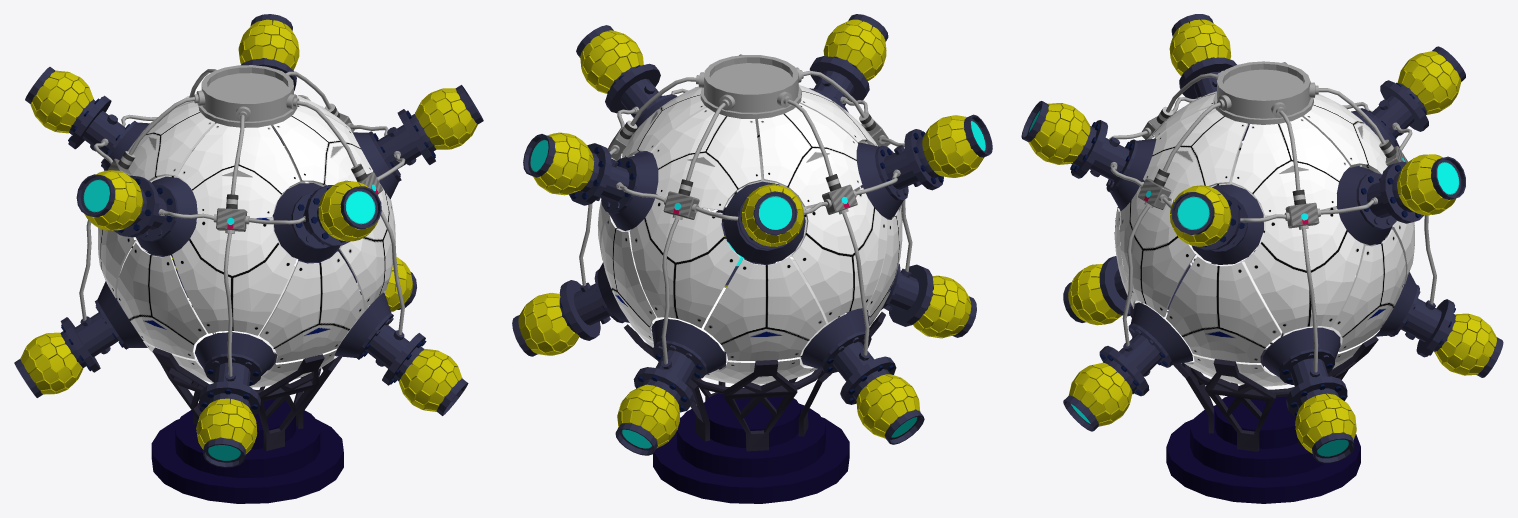
The model's file is Reactor.fbx.
3 renders of one model, left to right at view 1: azimuth 30°, elevation 25°; view 2: azimuth 150°, elevation 25°; view 3: azimuth 270°, elevation 25°, orthographic. The views are drawn at different scales.
Parts seen in each view (by area): view 1: polySurface129; view 2: polySurface129; view 3: polySurface129.
Boxes of the visible parts, x1=… form: polySurface129: x1=14, y1=14, x2=483, y2=503; polySurface129: x1=512, y1=14, x2=992, y2=503; polySurface129: x1=1021, y1=14, x2=1503, y2=503.
Bounding box in the file's own units: 57.47 × 52.13 × 59.67.
12 materials, 7 textured.
